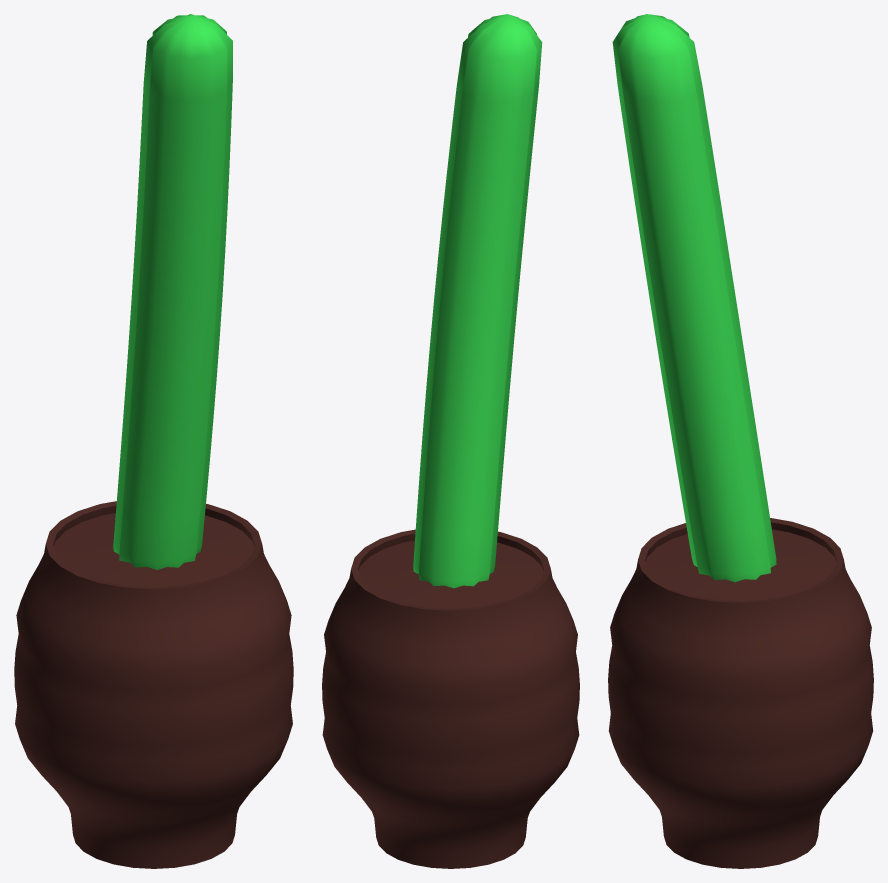
File: Plante01_low.fbx
3 views of the same model, side by side, from view 1: azimuth 30°, elevation 25°; view 2: azimuth 150°, elevation 25°; view 3: azimuth 270°, elevation 25° (orthographic). The views are drawn at different scales.
Visible parts, largest first — view 1: 01_Pot, 01_Plante, 01_Terre; view 2: 01_Pot, 01_Plante, 01_Terre; view 3: 01_Pot, 01_Plante, 01_Terre.
Part boxes in pixels (x1,y1,x2,y2): 01_Pot: [14, 501, 293, 868]; 01_Plante: [113, 14, 232, 569]; 01_Terre: [54, 513, 253, 587]; 01_Pot: [322, 529, 579, 868]; 01_Plante: [413, 14, 542, 588]; 01_Terre: [358, 540, 543, 608]; 01_Pot: [608, 518, 873, 868]; 01_Plante: [612, 14, 776, 582]; 01_Terre: [645, 529, 836, 600].
Size of the model in its own units: 44.39 by 150 by 44.39.
